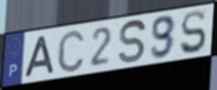2: (89, 26, 115, 69)
9: (149, 14, 178, 61)
A: (22, 35, 56, 80)
C: (56, 28, 87, 74)
S: (118, 19, 148, 65), (179, 9, 208, 56)
